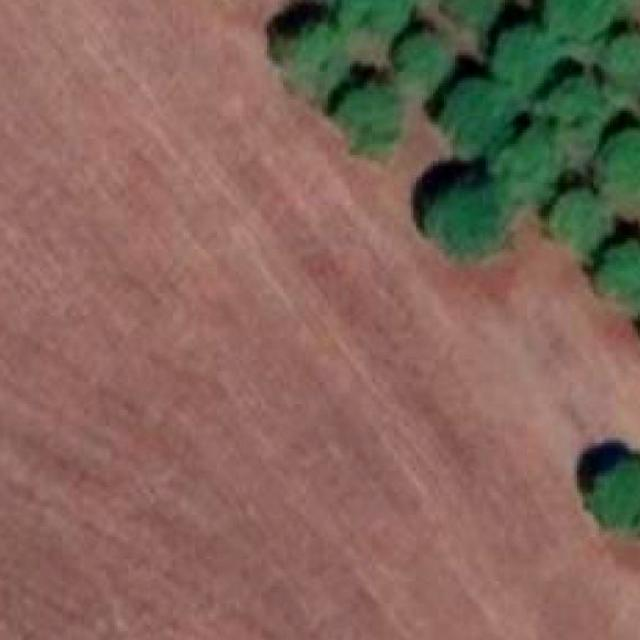Tree: (428, 190, 510, 254), (497, 133, 564, 203), (442, 81, 512, 147), (344, 80, 400, 155), (272, 15, 339, 76), (549, 186, 610, 252), (494, 28, 552, 92), (593, 456, 640, 532), (595, 129, 640, 204), (593, 244, 640, 299), (396, 31, 449, 79), (544, 78, 604, 120), (547, 0, 613, 37), (328, 0, 405, 28), (604, 36, 640, 80), (447, 0, 503, 22)
